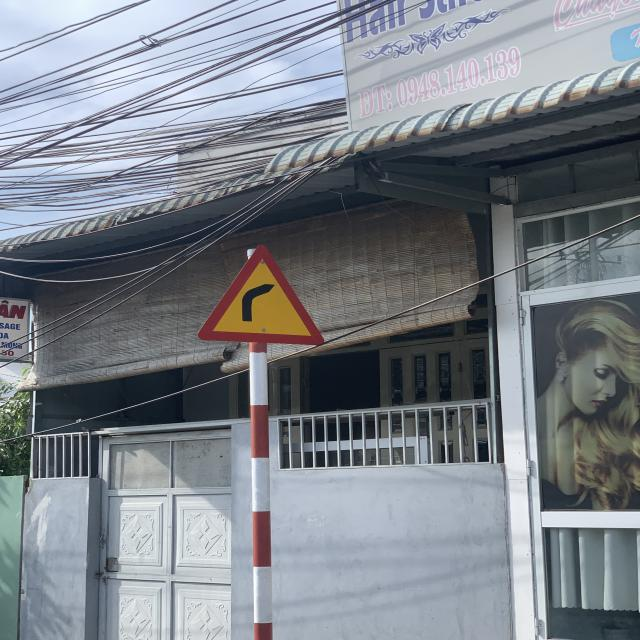Duong_Nguoi_Di_Bo_Cat_Ngang: (196, 245, 327, 346)
